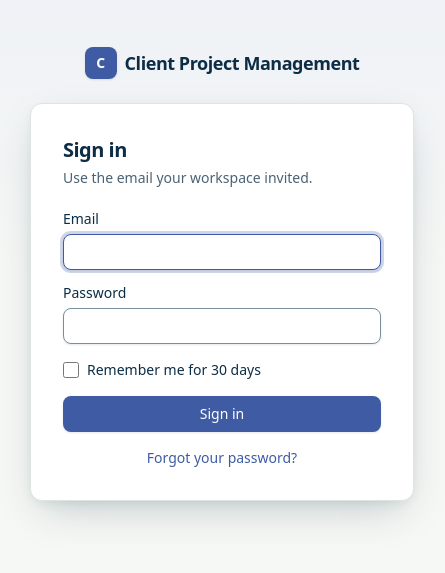
Test case: LoginPage › FR-AUTH-02: shows the server's generic message on wrong credentials
Type "lina@nexa.test" into the field labelled "Email".
click(222, 252); type("lina@nexa.test")  # box [63,234,381,270]
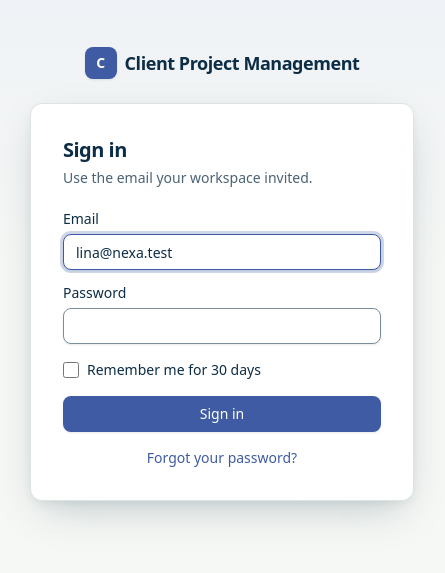
Type "wrong" into the password field labelled "Password".
click(222, 326); type("wrong")  # box [63,308,381,344]
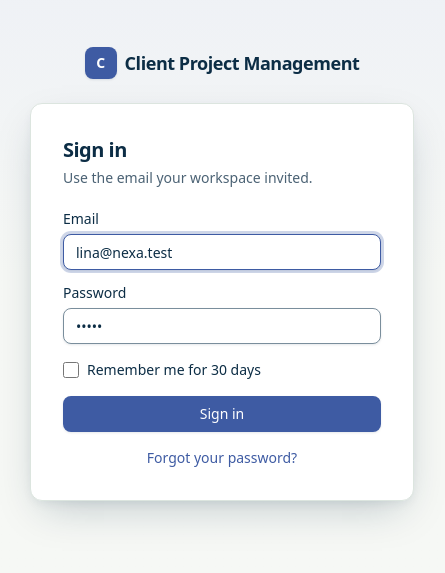
Click the button "Sign in".
click(222, 414)  # box [63,396,381,432]
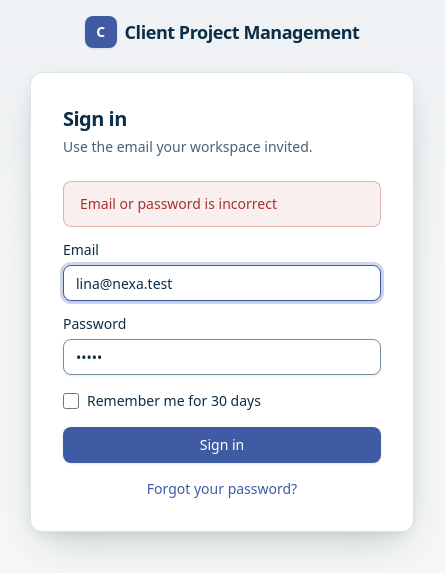
Now the message reads "Email or password is incorrect", box [80,194,277,213]
